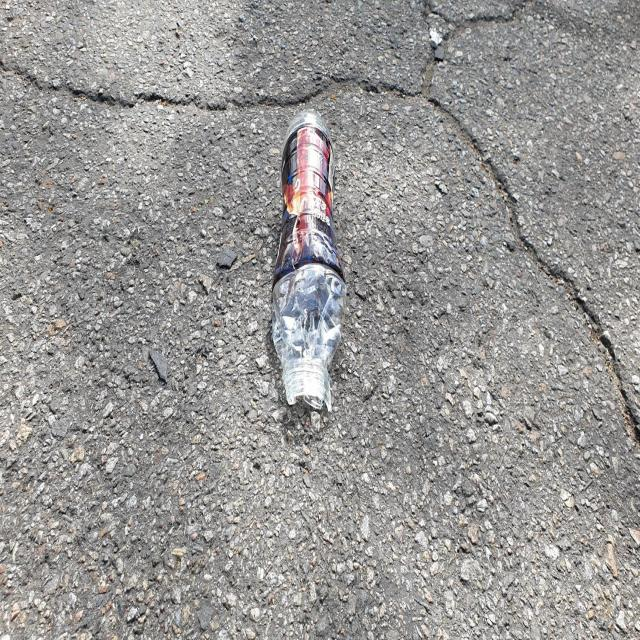plastic: (272, 108, 346, 411)
